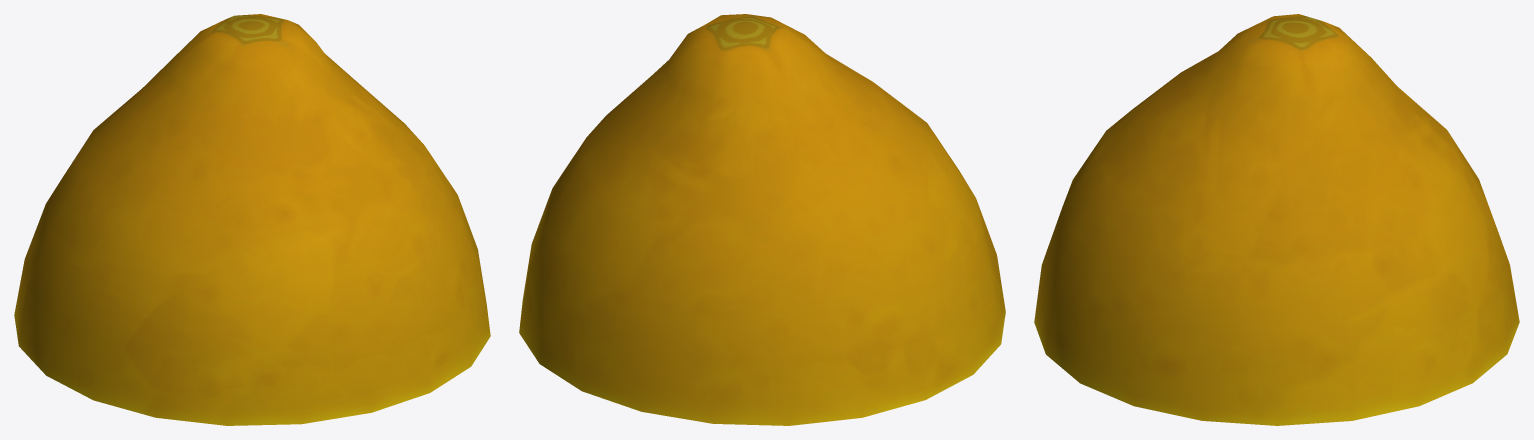
The model's file is SM_LemonCutBottom.fbx.
The picture shows the model from 3 angles, left to right: view 1: azimuth 30°, elevation 25°; view 2: azimuth 150°, elevation 25°; view 3: azimuth 270°, elevation 25°; orthographic projection. The views are drawn at different scales.
Parts seen in each view (by area): view 1: SM_LemonCutBottom; view 2: SM_LemonCutBottom; view 3: SM_LemonCutBottom.
Boxes of the visible parts, x1,y1,x2,y2 form: SM_LemonCutBottom: [14, 14, 490, 425]; SM_LemonCutBottom: [519, 14, 1005, 425]; SM_LemonCutBottom: [1034, 14, 1519, 425].
Size of the model in its own units: 10.63 by 7.22 by 10.58.
Materials: 1 (1 with a texture image).
